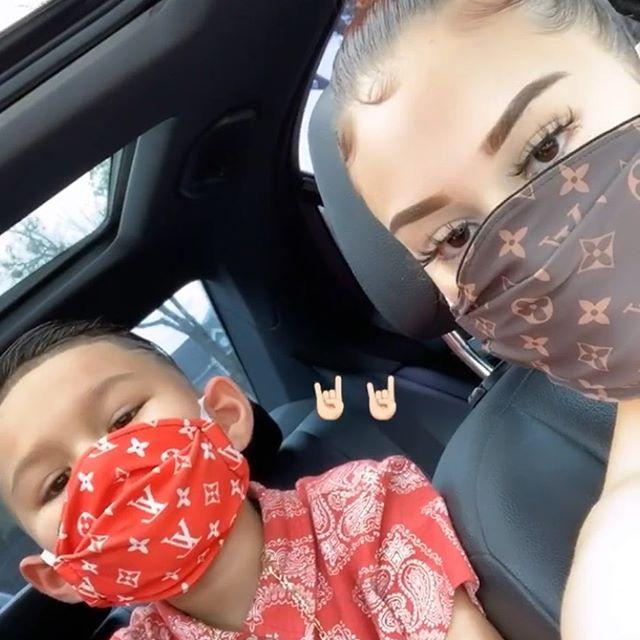homemade: (447, 123, 640, 388), (57, 429, 240, 611)
